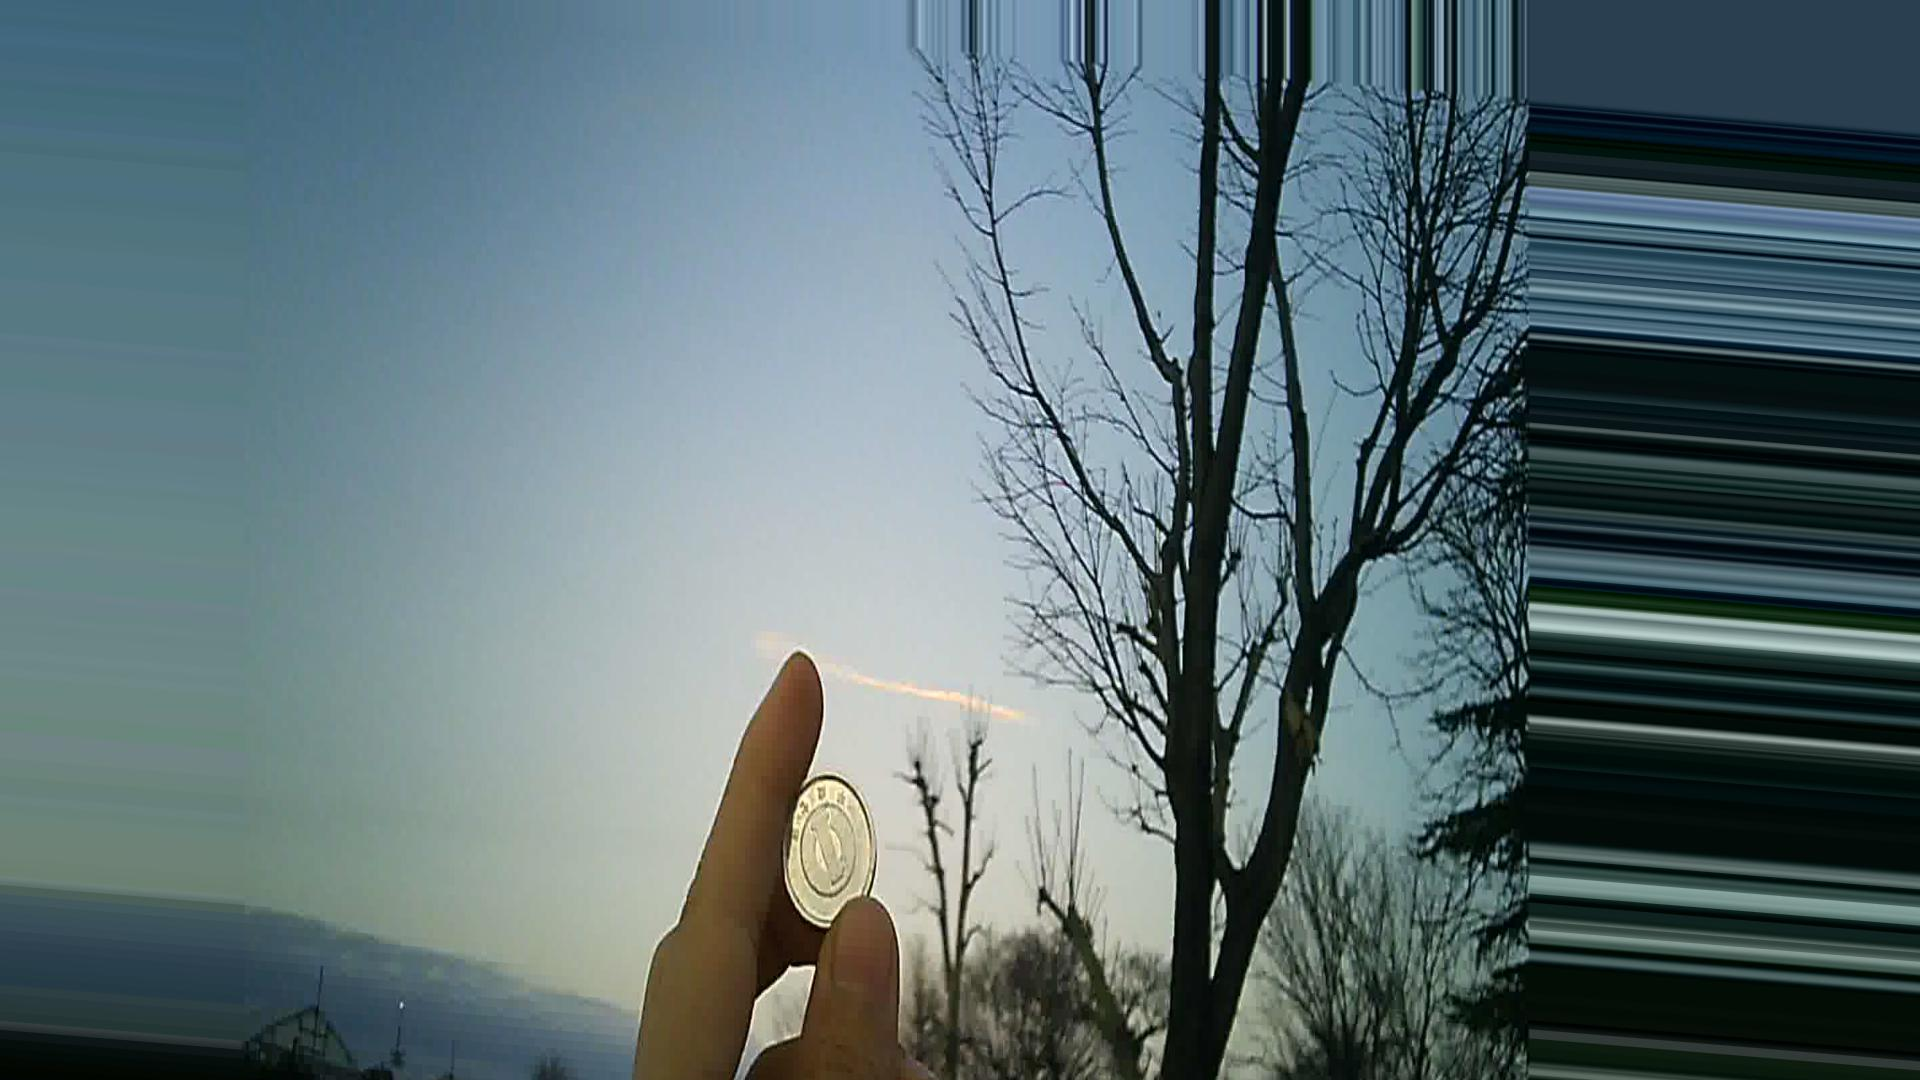1 Yen: (761, 766, 887, 927)
